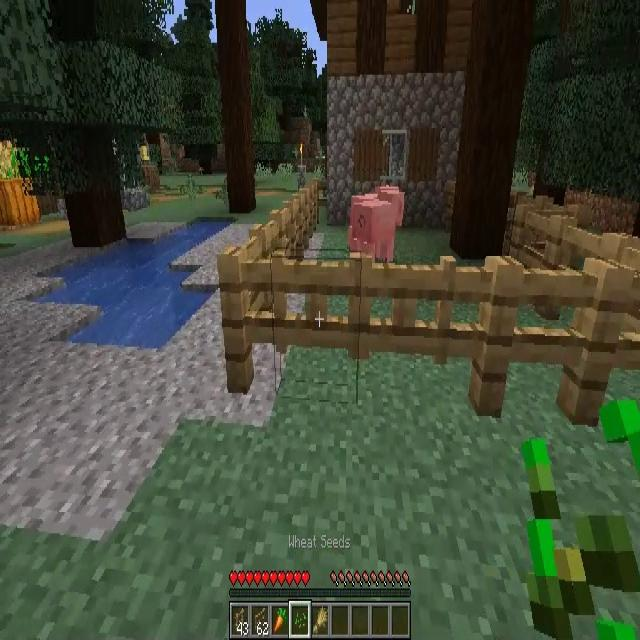pig: (346, 190, 404, 266)
